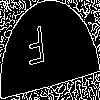F: (25, 25, 47, 75)
